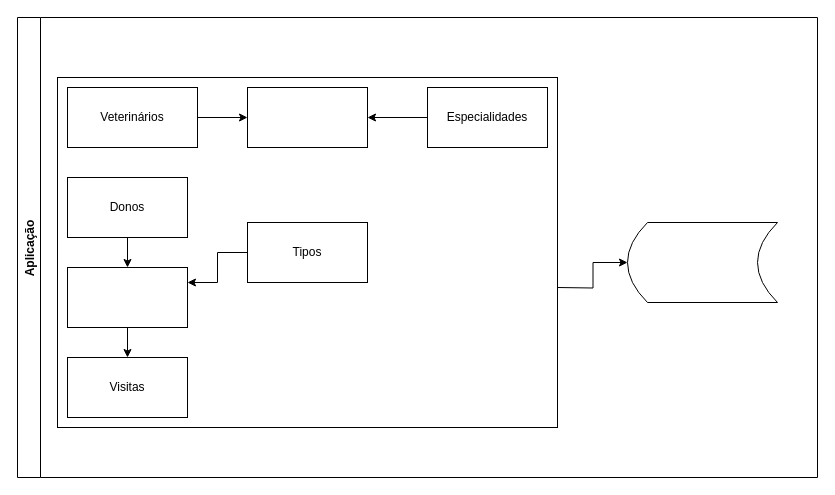
The diagram is 835 pixels wide and 495 high, and some of its shapes have lost their labels. Here are the shapes that lost their labels. From the top down, the centre of each, then its label:
point (307, 117): Especialidades do veterinário
point (702, 262): Banco de dados
point (127, 297): Animais
